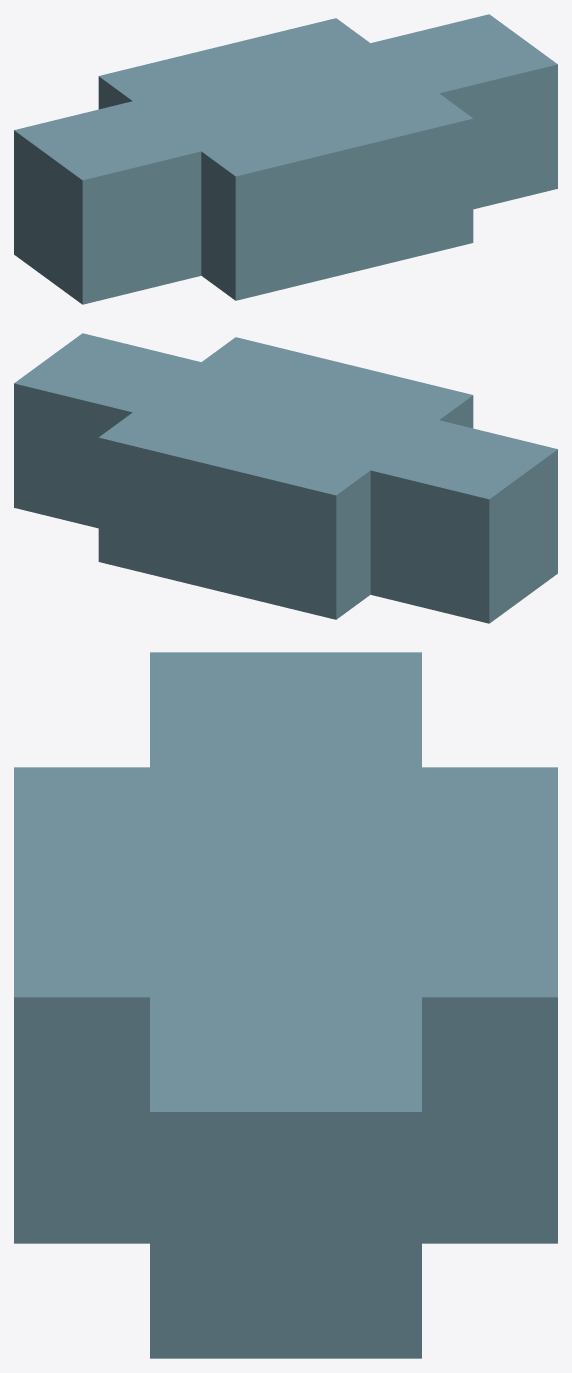
The model's file is Boxes_Pieces_for_PhysX_(OneMatForAll)_Pack1_01.FBX.
3 views of the same model, one above another, from view 1: azimuth 30°, elevation 25°; view 2: azimuth 150°, elevation 25°; view 3: azimuth 270°, elevation 25° (orthographic). The views are drawn at different scales.
Visible parts, largest first — view 1: Box_size_2x2_1_01, Box_size_1x4_1_01, Box_size_1x3_1_01, Box_Size_1x2_1_01, Box_Size_1x1_1_01; view 2: Box_size_1x4_1_01, Box_size_2x2_1_01, Box_size_1x3_1_01, Box_Size_1x2_1_01, Box_Size_1x1_1_01; view 3: Box_size_2x2_1_01, Box_size_1x4_1_01, Box_size_1x3_1_01, Box_Size_1x2_1_01, Box_Size_1x1_1_01.
Boxes of the visible parts, x1,y1,x2,y2 form: Box_size_2x2_1_01: (98,18,473,300); Box_size_1x4_1_01: (14,14,557,304); Box_size_1x3_1_01: (74,28,498,289); Box_Size_1x2_1_01: (133,43,438,151); Box_Size_1x1_1_01: (192,58,379,135); Box_size_1x4_1_01: (14,333,557,623); Box_size_2x2_1_01: (98,337,473,619); Box_size_1x3_1_01: (73,347,497,608); Box_Size_1x2_1_01: (133,362,438,470); Box_Size_1x1_1_01: (192,377,379,455); Box_size_2x2_1_01: (14,767,557,1243); Box_size_1x4_1_01: (150,652,421,1358); Box_size_1x3_1_01: (150,709,421,1054); Box_Size_1x2_1_01: (150,767,421,997); Box_Size_1x1_1_01: (150,824,421,939).
Bounding box in the file's own units: 4 × 1 × 2.
